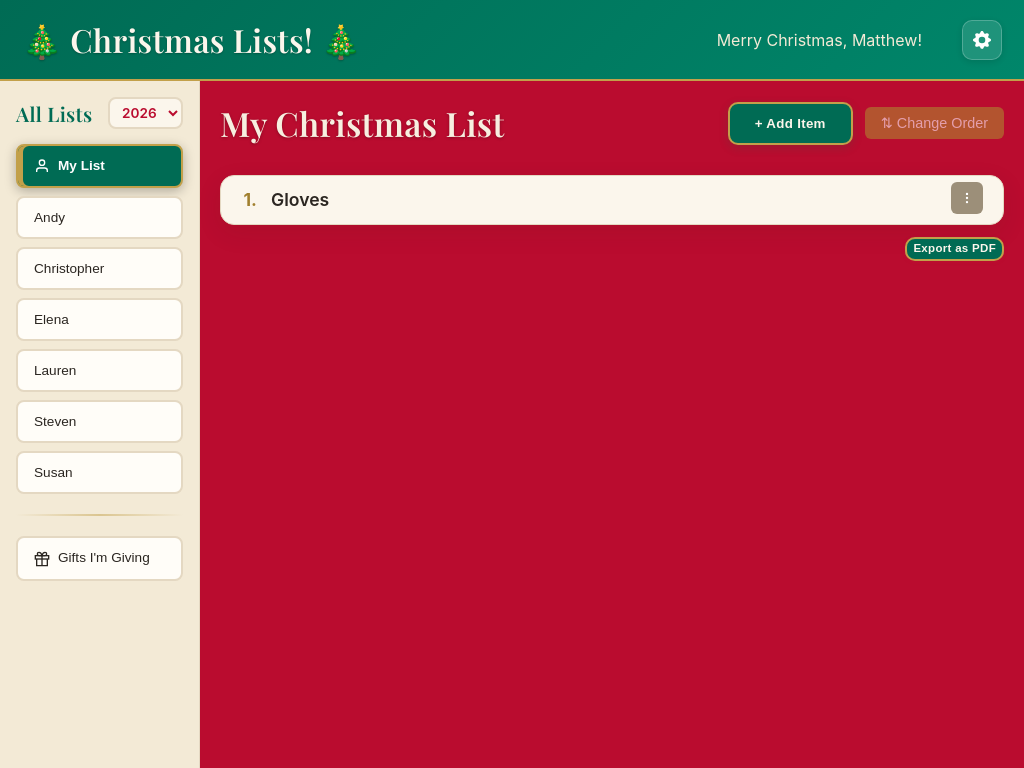
Scenario: the anonymize toggle persists and hides giver names
Click the button "Andy". click: (100, 218)
box: [16,196,183,239]
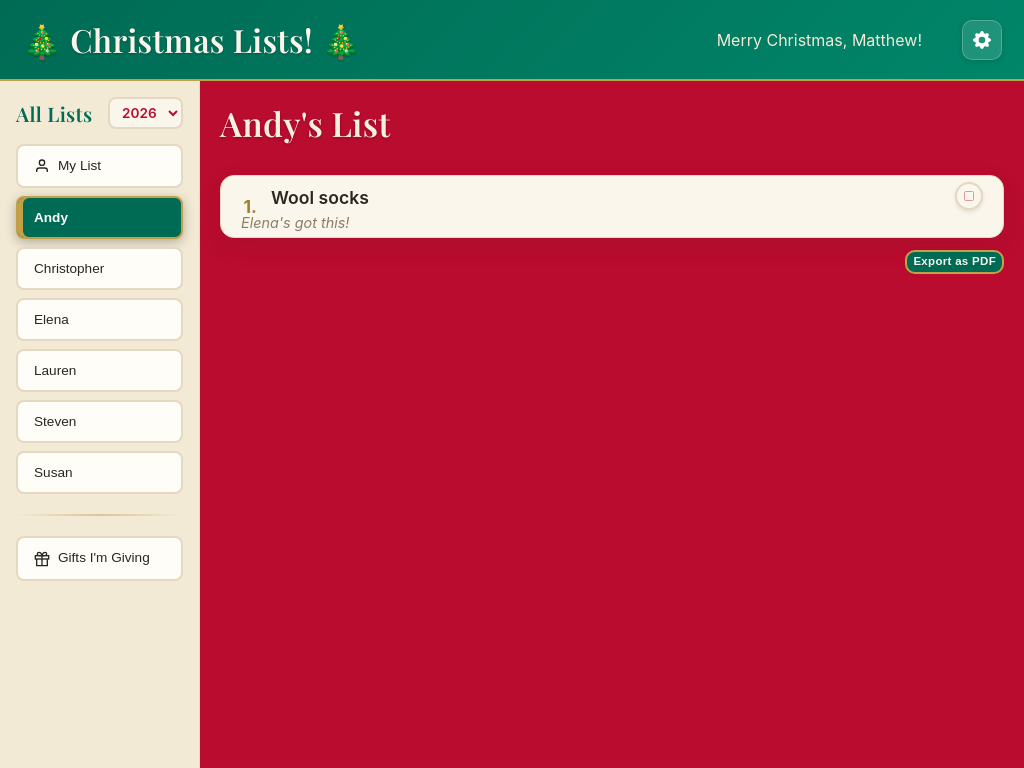
Check: the text "Elena's got this!" is shown, box [241,214,349,231]
Click the button named "Settings". click: (982, 40)
box: [962,20,1002,60]
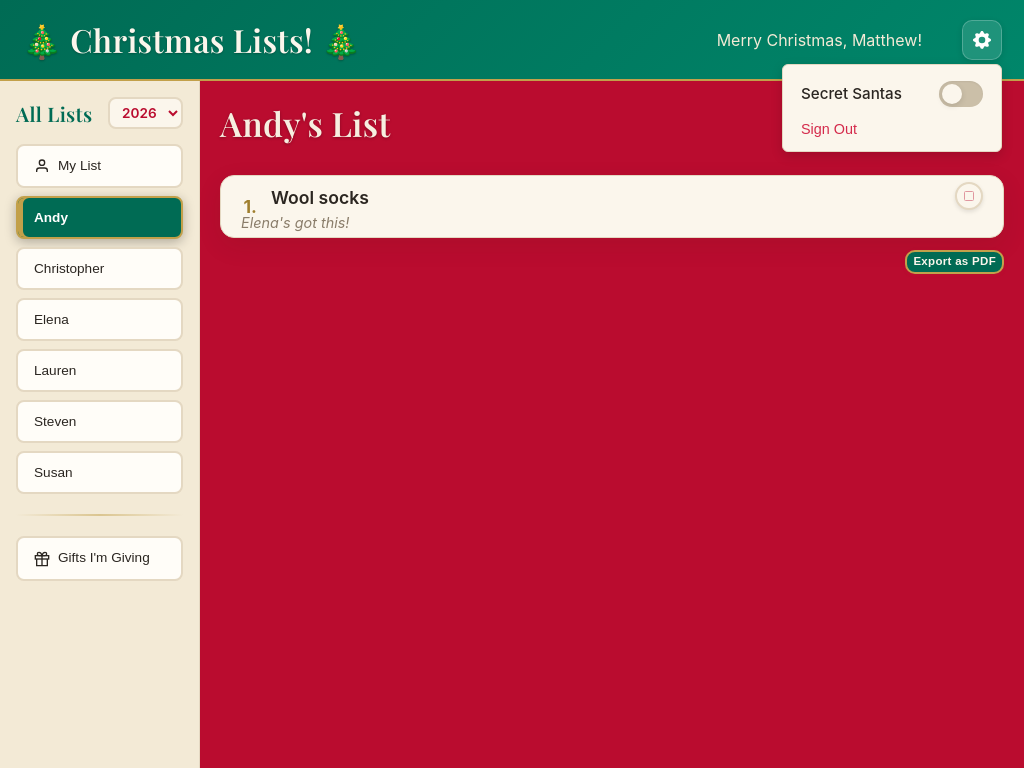
Click the checkbox named "Anonymize Gift Givers". click: (961, 94)
box: [939,80,983,106]
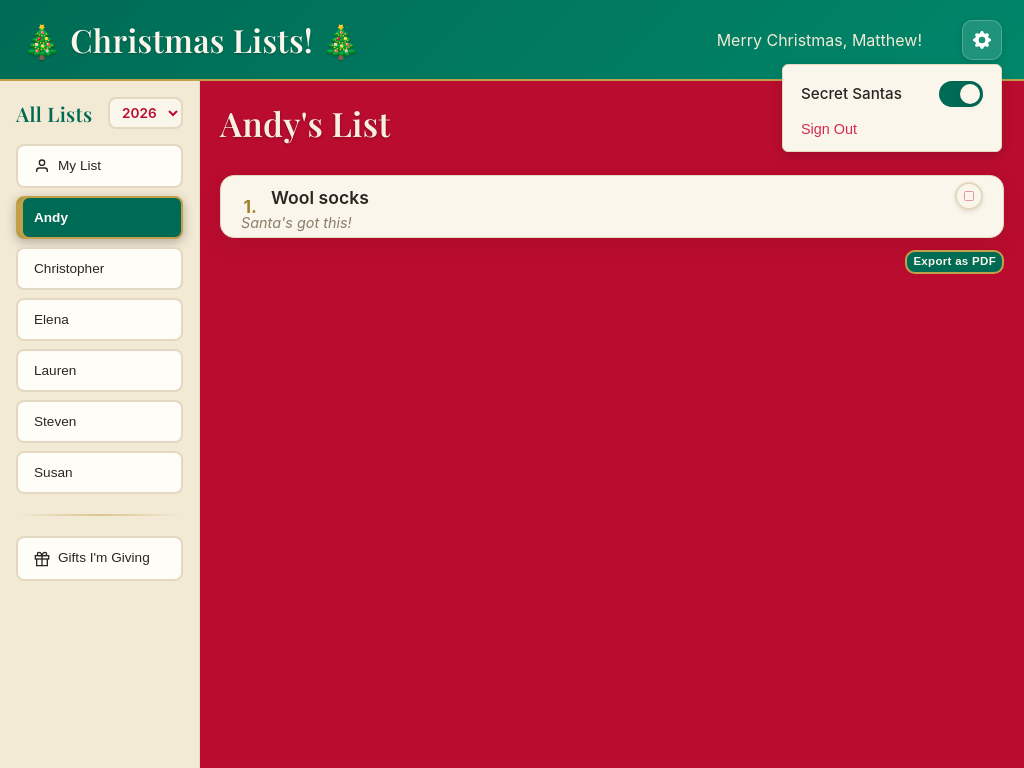
Check: the text "Santa's got this!" is shown, box [241,214,352,231]
Check: the text "Elena's got this" is gone
